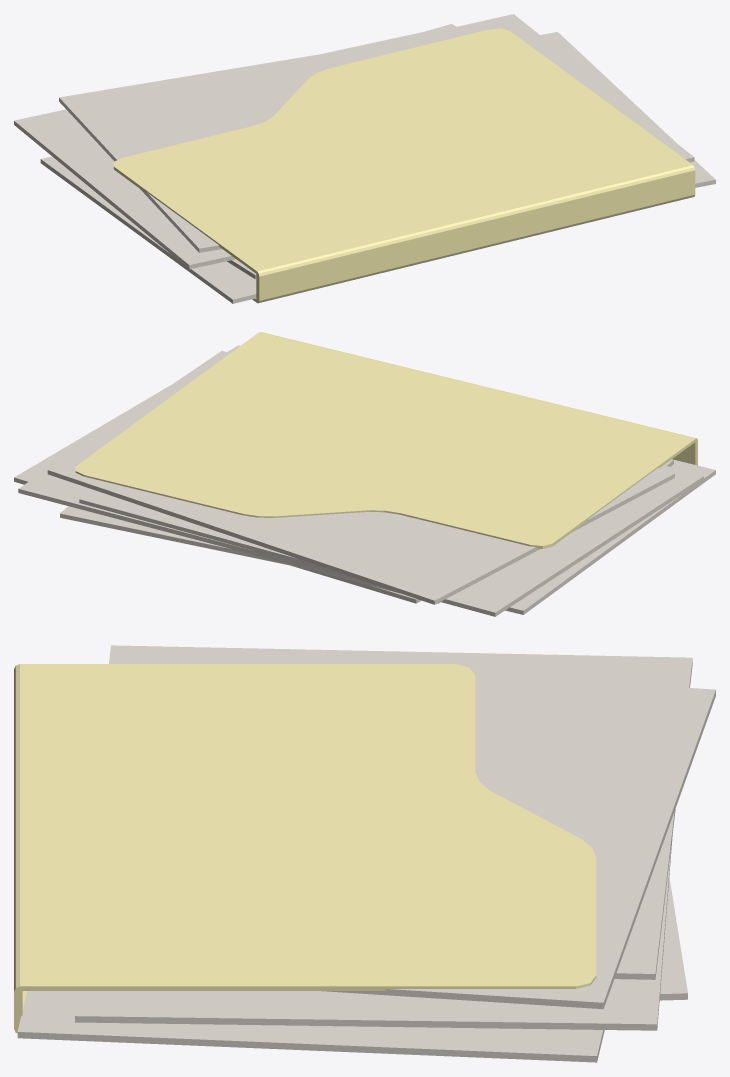
Rendered from props-folder-manilla-v1.glb.
3 renders of one model, top to bottom at view 1: azimuth 30°, elevation 25°; view 2: azimuth 150°, elevation 25°; view 3: azimuth 270°, elevation 25°, orthographic. The views are drawn at different scales.
Parts seen in each view (by area): view 1: Plane_0_3, Plane.001_1_1; view 2: Plane_0_3, Plane.001_1_1; view 3: Plane_0_3, Plane.001_1_1.
Part boxes in pixels (left/top/right/bottom): Plane_0_3: left=113, top=28, right=695, bottom=303; Plane.001_1_1: left=14, top=14, right=715, bottom=303; Plane_0_3: left=75, top=332, right=697, bottom=548; Plane.001_1_1: left=14, top=345, right=715, bottom=616; Plane_0_3: left=14, top=664, right=596, bottom=1033; Plane.001_1_1: left=17, top=645, right=715, bottom=1062.
Size of the model in its own units: 3.18 by 0.1817 by 2.41.
